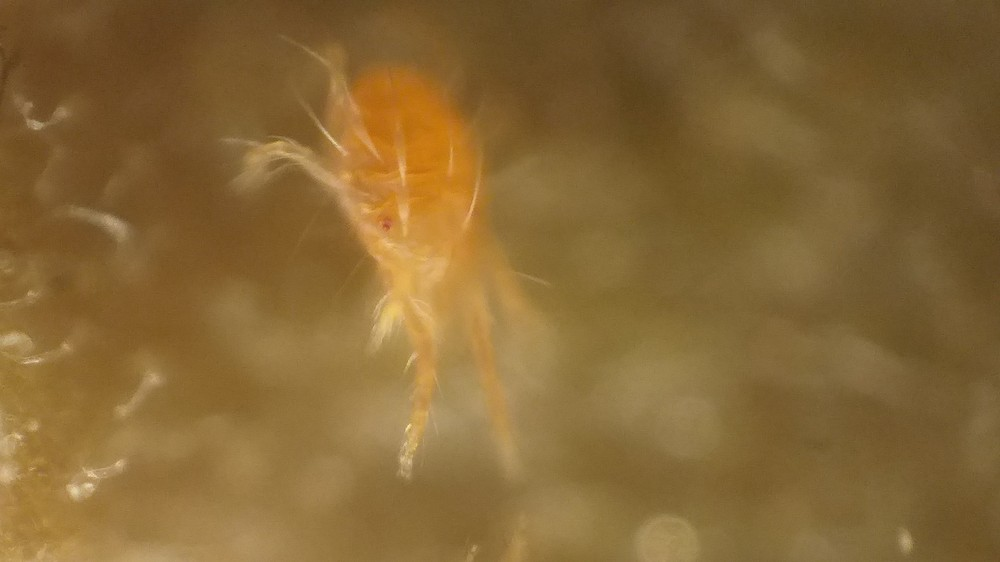Aracnido Rojo: (199, 19, 592, 505)
